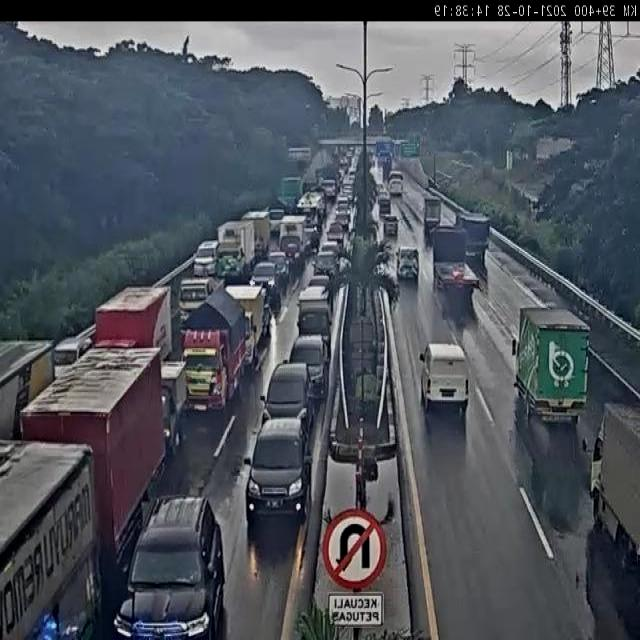Car: (112, 488, 228, 640), (244, 414, 313, 522), (260, 361, 314, 436), (288, 334, 328, 408), (52, 334, 97, 378), (248, 262, 279, 302), (192, 238, 220, 276), (266, 250, 290, 282), (306, 274, 332, 296), (326, 220, 346, 248), (308, 270, 333, 288), (320, 178, 337, 200), (343, 180, 356, 206), (338, 153, 351, 176), (378, 196, 392, 217), (384, 216, 398, 237), (344, 147, 356, 167), (336, 165, 346, 186), (348, 165, 357, 183), (378, 188, 388, 201)
Truck: (17, 344, 167, 574), (2, 439, 104, 640), (512, 305, 590, 430), (589, 403, 640, 580), (93, 283, 173, 360), (1, 341, 56, 442), (224, 284, 268, 371), (429, 224, 481, 295), (213, 219, 254, 286), (160, 359, 188, 457), (295, 291, 334, 349), (178, 273, 220, 320), (458, 214, 491, 271), (236, 211, 272, 257), (279, 214, 307, 266), (296, 192, 324, 242), (266, 194, 290, 237), (280, 176, 303, 212), (423, 197, 442, 233), (335, 200, 351, 229), (387, 170, 404, 197)
Van: (418, 340, 472, 416), (396, 245, 419, 281)
